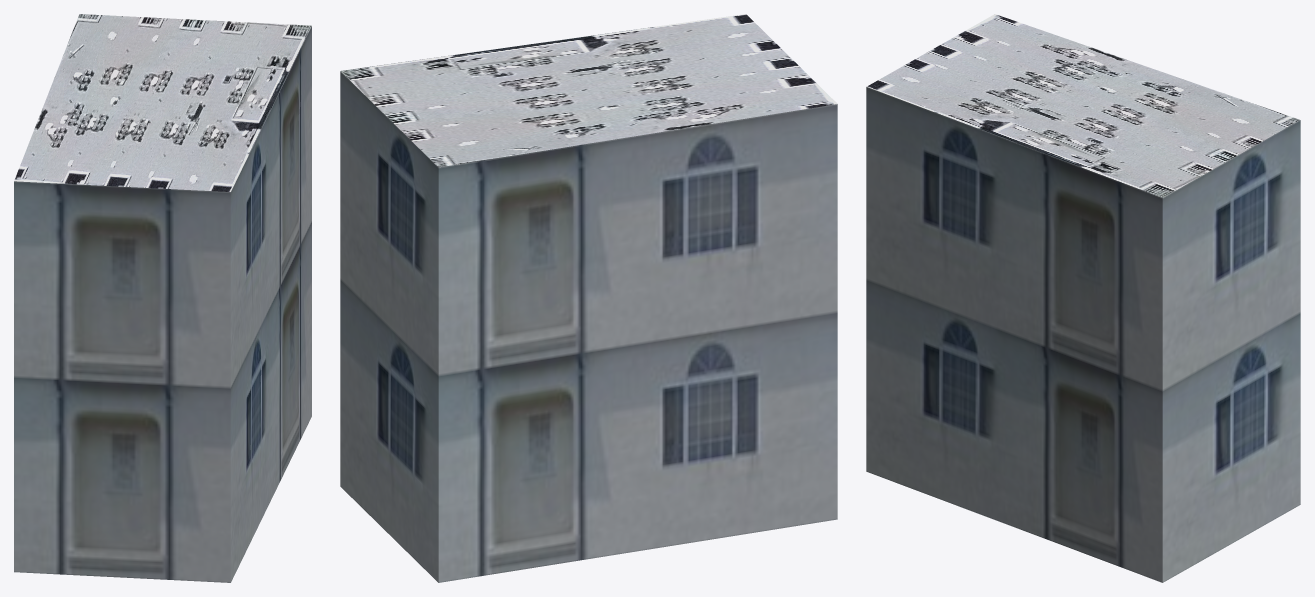
The model's file is ResTex__4890.fbx.
3 renders of one model, left to right at view 1: azimuth 30°, elevation 25°; view 2: azimuth 150°, elevation 25°; view 3: azimuth 270°, elevation 25°, orthographic. The views are drawn at different scales.
Parts seen in each view (by area): view 1: CityEngineMaterial_17_m, CityEngineMaterial_4_m; view 2: CityEngineMaterial_17_m, CityEngineMaterial_4_m; view 3: CityEngineMaterial_17_m, CityEngineMaterial_4_m.
Part boxes in pixels (x1,y1,x2,y2): CityEngineMaterial_17_m: (14,26,311,582); CityEngineMaterial_4_m: (14,14,311,191); CityEngineMaterial_17_m: (340,71,837,582); CityEngineMaterial_4_m: (340,14,837,167); CityEngineMaterial_17_m: (866,87,1300,582); CityEngineMaterial_4_m: (867,14,1299,197).
Bounding box in the file's own units: 6.15 × 6 × 6.13.
2 materials, 2 textured.
